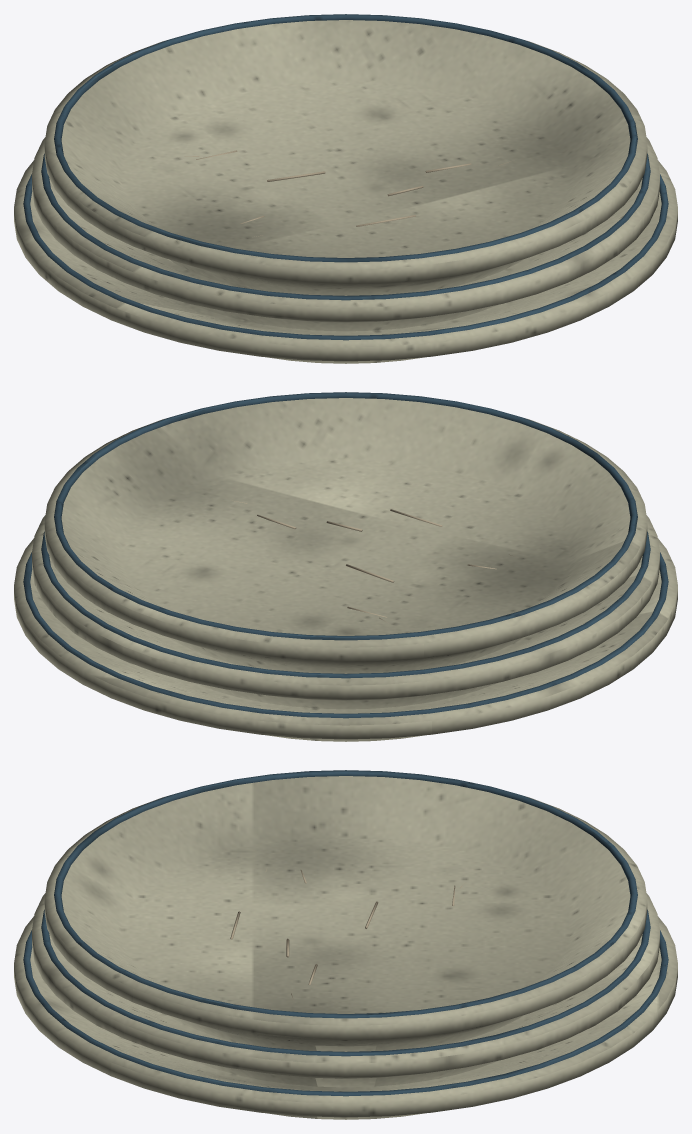
The model's file is prop_stacked_dinner_plates.glb.
3 renders of one model, top to bottom at view 1: azimuth 30°, elevation 25°; view 2: azimuth 150°, elevation 25°; view 3: azimuth 270°, elevation 25°, orthographic.
Parts seen in each view (by area): view 1: prop_stacked_dinner_plates; view 2: prop_stacked_dinner_plates; view 3: prop_stacked_dinner_plates.
Part boxes in pixels (bbox=[...]): prop_stacked_dinner_plates: bbox=[14, 14, 677, 363]; prop_stacked_dinner_plates: bbox=[14, 392, 677, 741]; prop_stacked_dinner_plates: bbox=[14, 770, 677, 1119].
Size of the model in its own units: 0.26 by 0.0584 by 0.26.
Materials: 3 (2 with a texture image).
